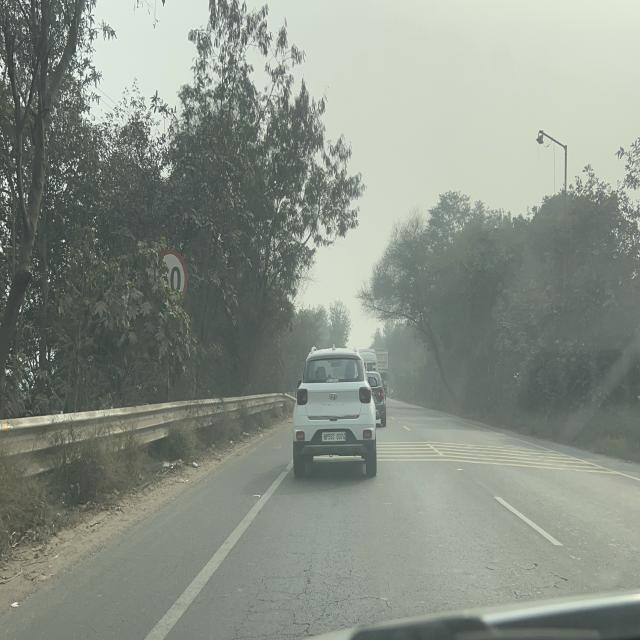SPEED_LIMIT_60: (156, 248, 188, 308)
